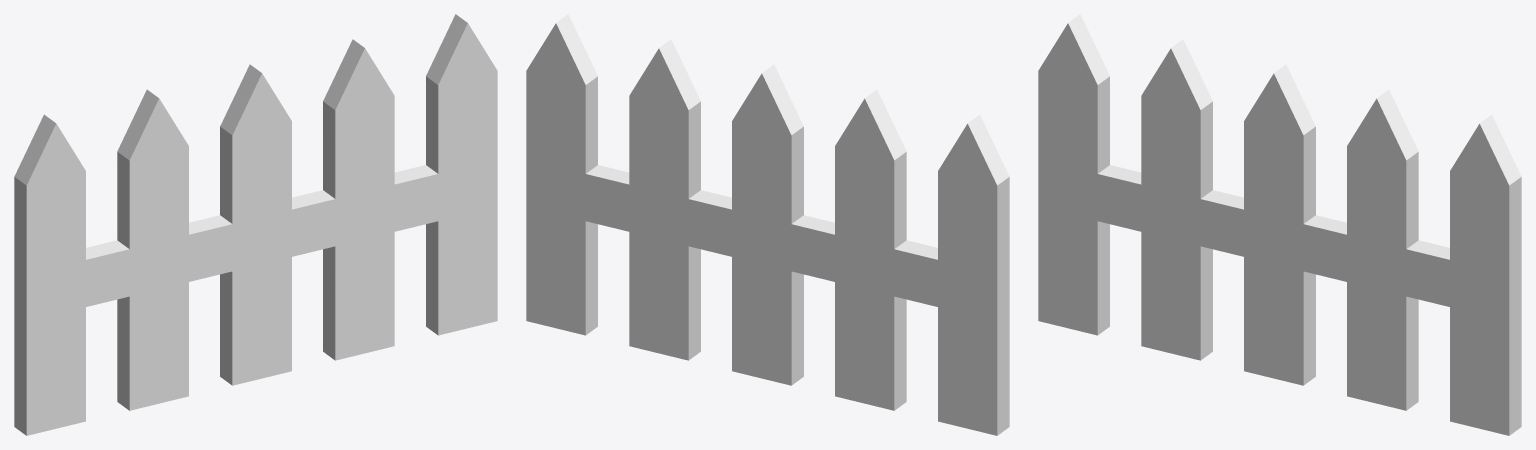
The model's file is HouseFence.fbx.
The picture shows the model from 3 angles, left to right: view 1: azimuth 30°, elevation 25°; view 2: azimuth 150°, elevation 25°; view 3: azimuth 330°, elevation 25°; orthographic projection.
Visible parts, largest first — view 1: HouseFence; view 2: HouseFence; view 3: HouseFence.
Part boxes in pixels (x1,y1,x2,y2): HouseFence: (14,14,497,435); HouseFence: (526,14,1009,435); HouseFence: (1038,14,1521,435).
Bounding box in the file's own units: 2.02 × 1.25 × 0.0916.
